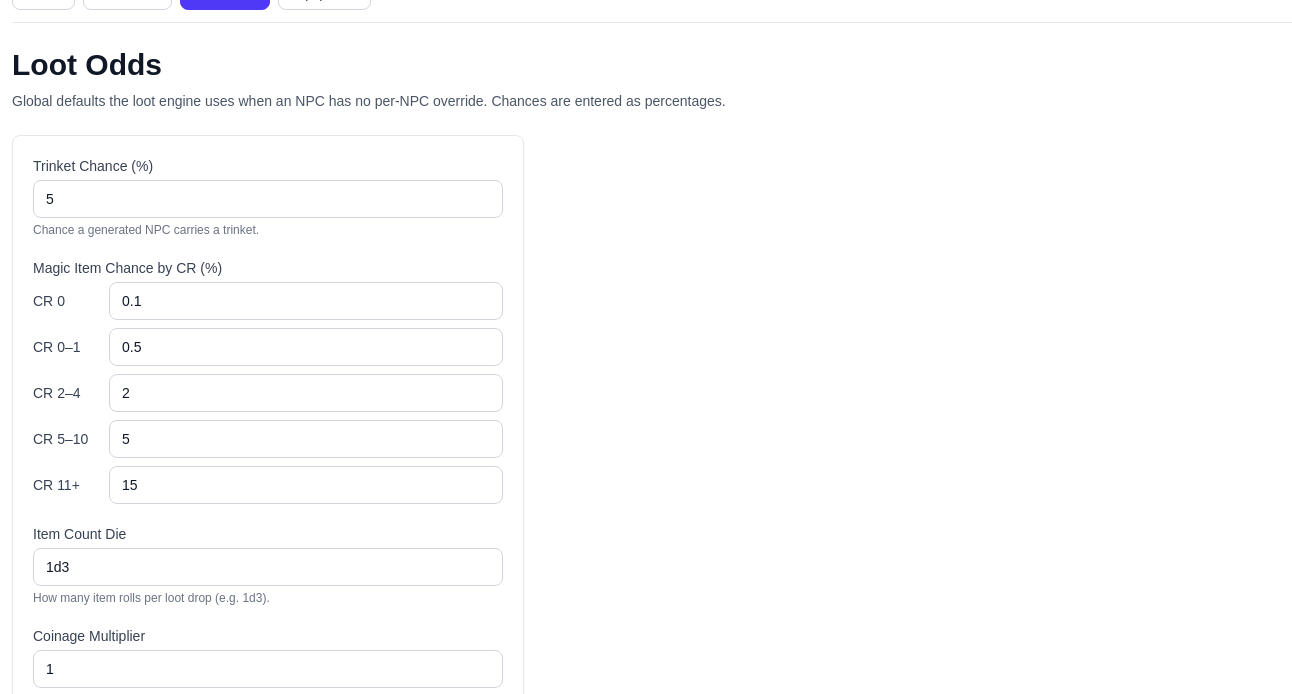
Test case: AdminLootOddsPage › after Save the fields show the saved values
Expected: the field showing "1d3" is shown, [33,548,503,586]
Replace the text in the number field labelled "Trinket Chance (%)" with "10" at (268, 199), box [33,180,503,218]
(page scrolled)
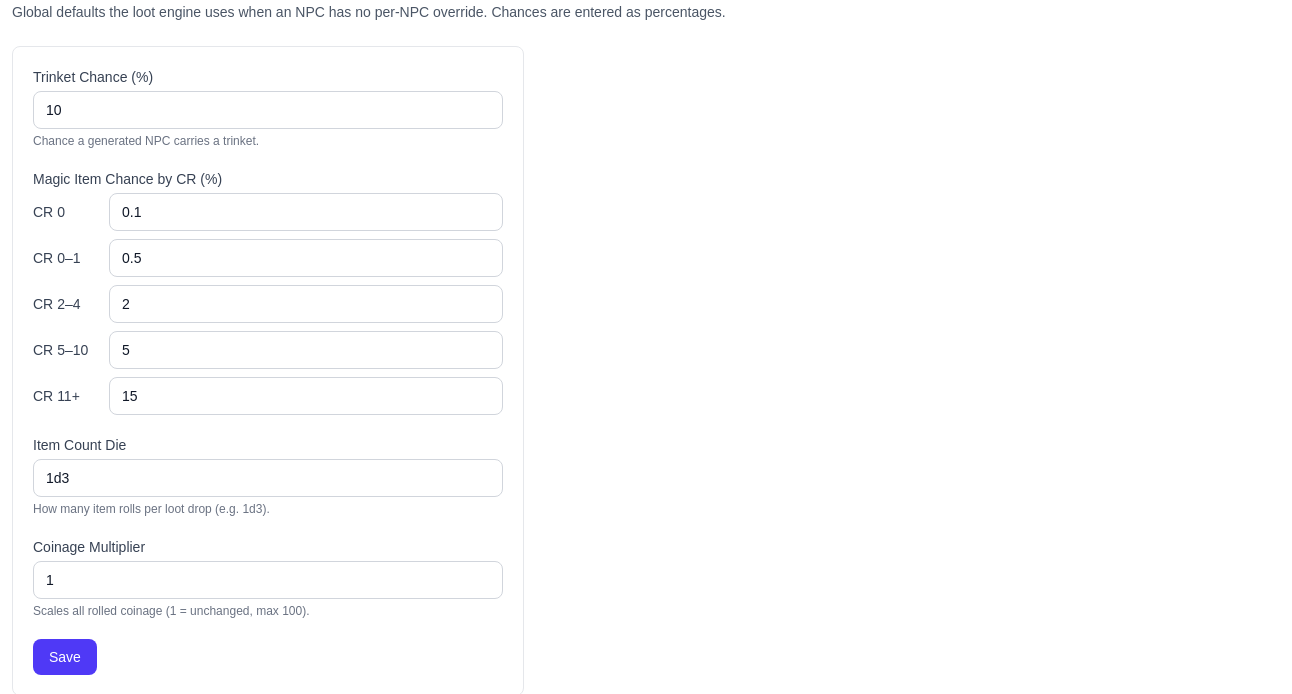
Click the button "Save".
click(65, 657)  # box [33,639,97,675]
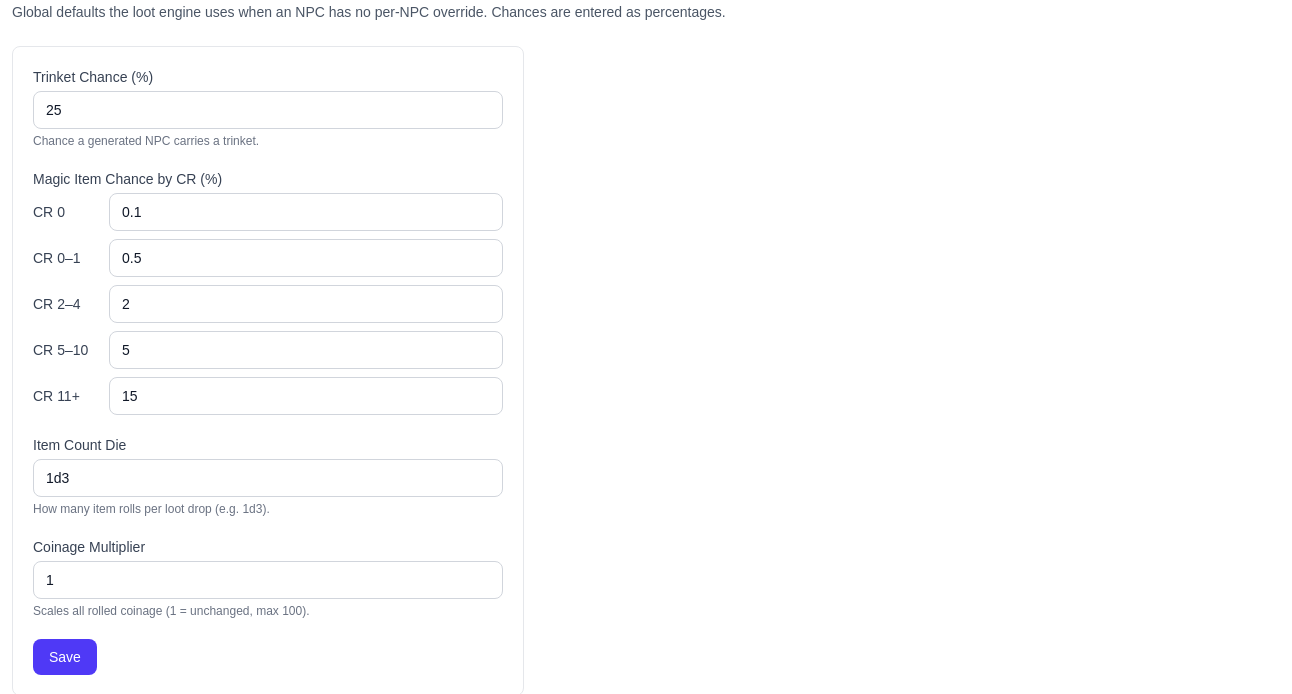
Result: the number field labelled "Trinket Chance (%)" holds "25" at [33,91,503,129]
